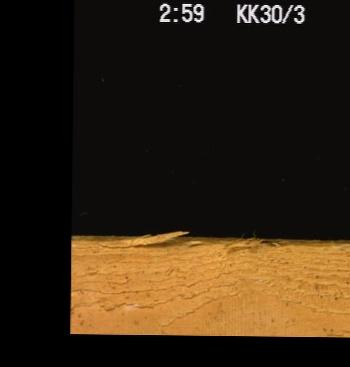split: (95, 235, 182, 249)
